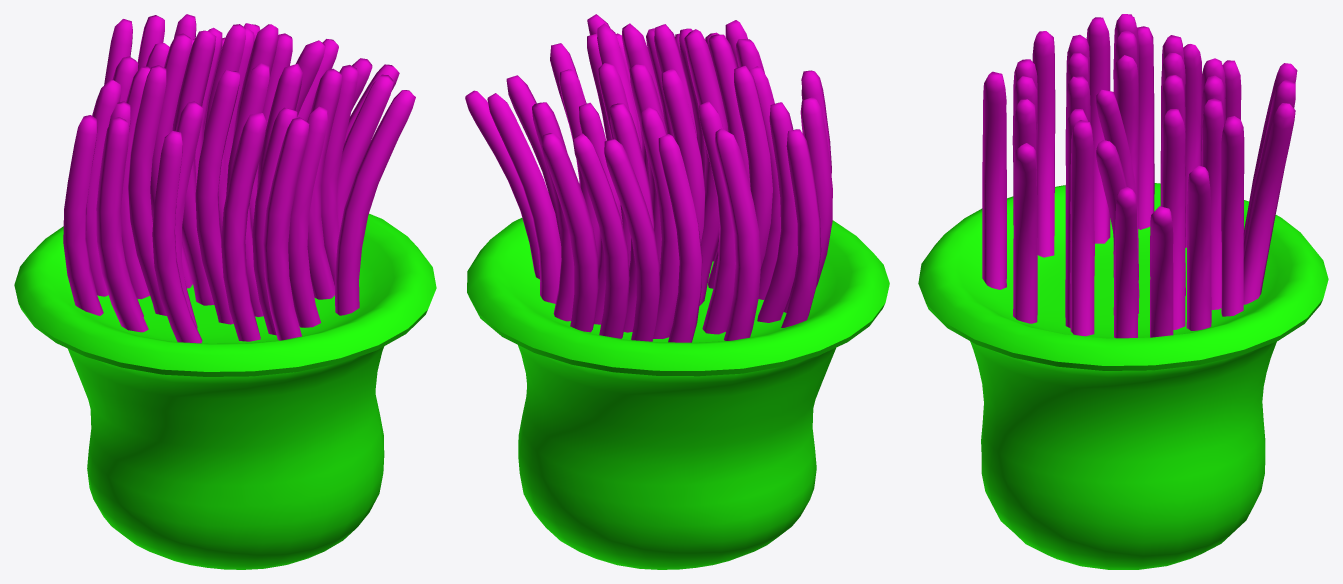
File: uniquecoral5.fbx
3 renders of one model, left to right at view 1: azimuth 30°, elevation 25°; view 2: azimuth 150°, elevation 25°; view 3: azimuth 270°, elevation 25°, orthographic.
Parts seen in each view (by area): view 1: UniqueCoral5Head.Low, UniqueCoral5Base.Low; view 2: UniqueCoral5Head.Low, UniqueCoral5Base.Low; view 3: UniqueCoral5Base.Low, UniqueCoral5Head.Low.
Part boxes in pixels (<box>): UniqueCoral5Head.Low: <box>63,14,415,343</box>; UniqueCoral5Base.Low: <box>14,213,436,569</box>; UniqueCoral5Head.Low: <box>465,14,832,342</box>; UniqueCoral5Base.Low: <box>467,218,889,569</box>; UniqueCoral5Base.Low: <box>918,183,1328,569</box>; UniqueCoral5Head.Low: <box>982,14,1297,338</box>.
Bounding box in the file's own units: 172 × 229 × 165.
